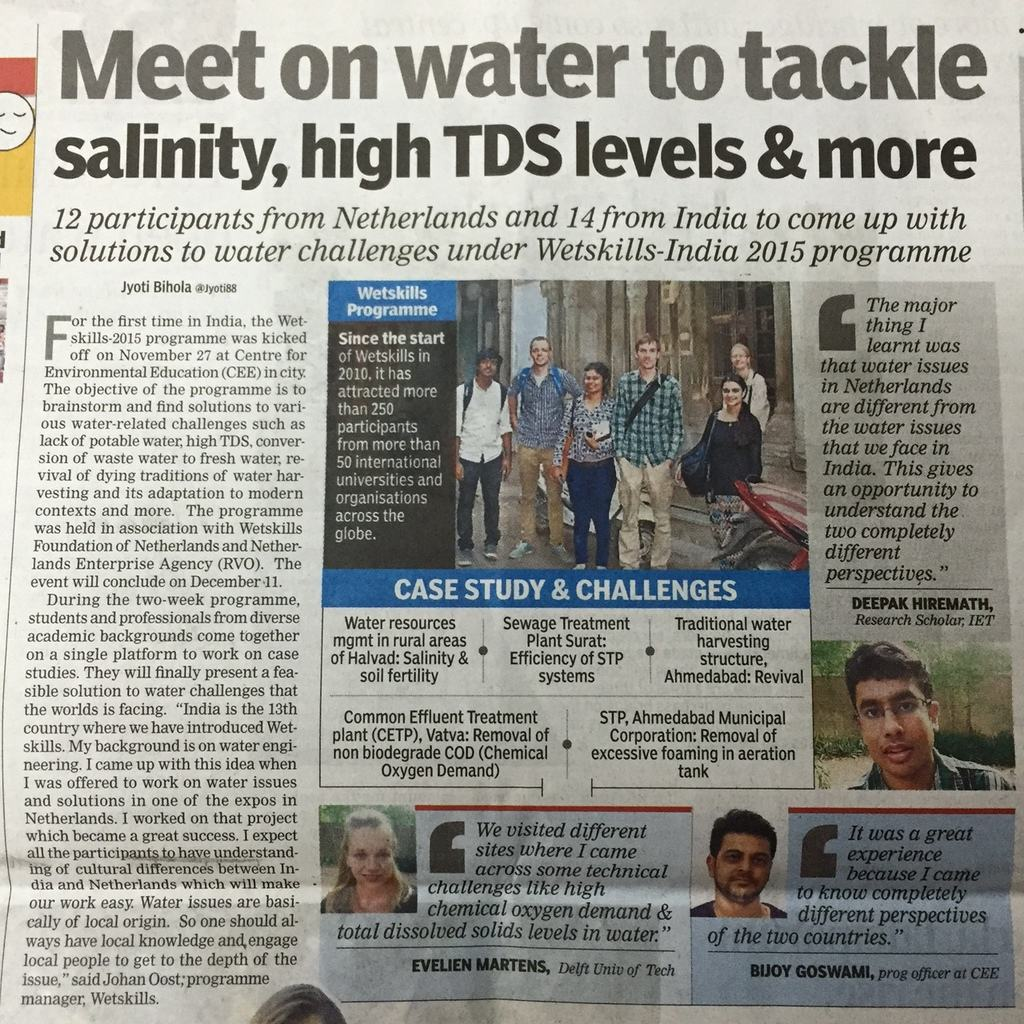news_paper: (6, 12, 1024, 1024)
